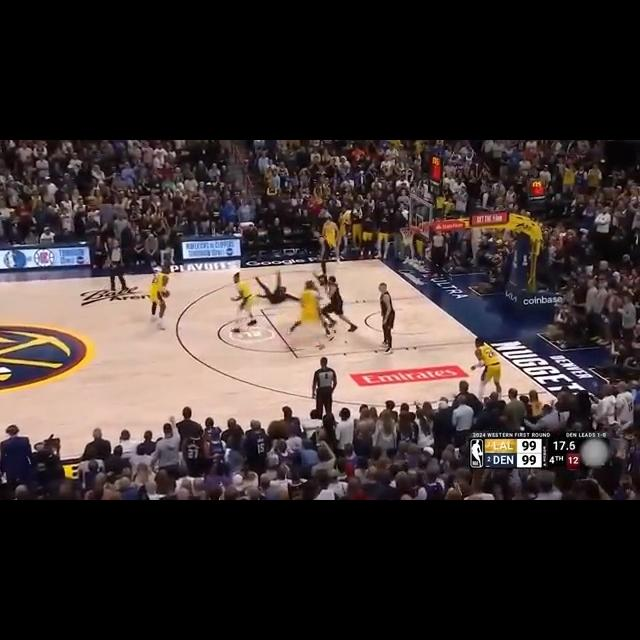basketball: (158, 288, 172, 299)
hoop: (395, 222, 421, 248)
